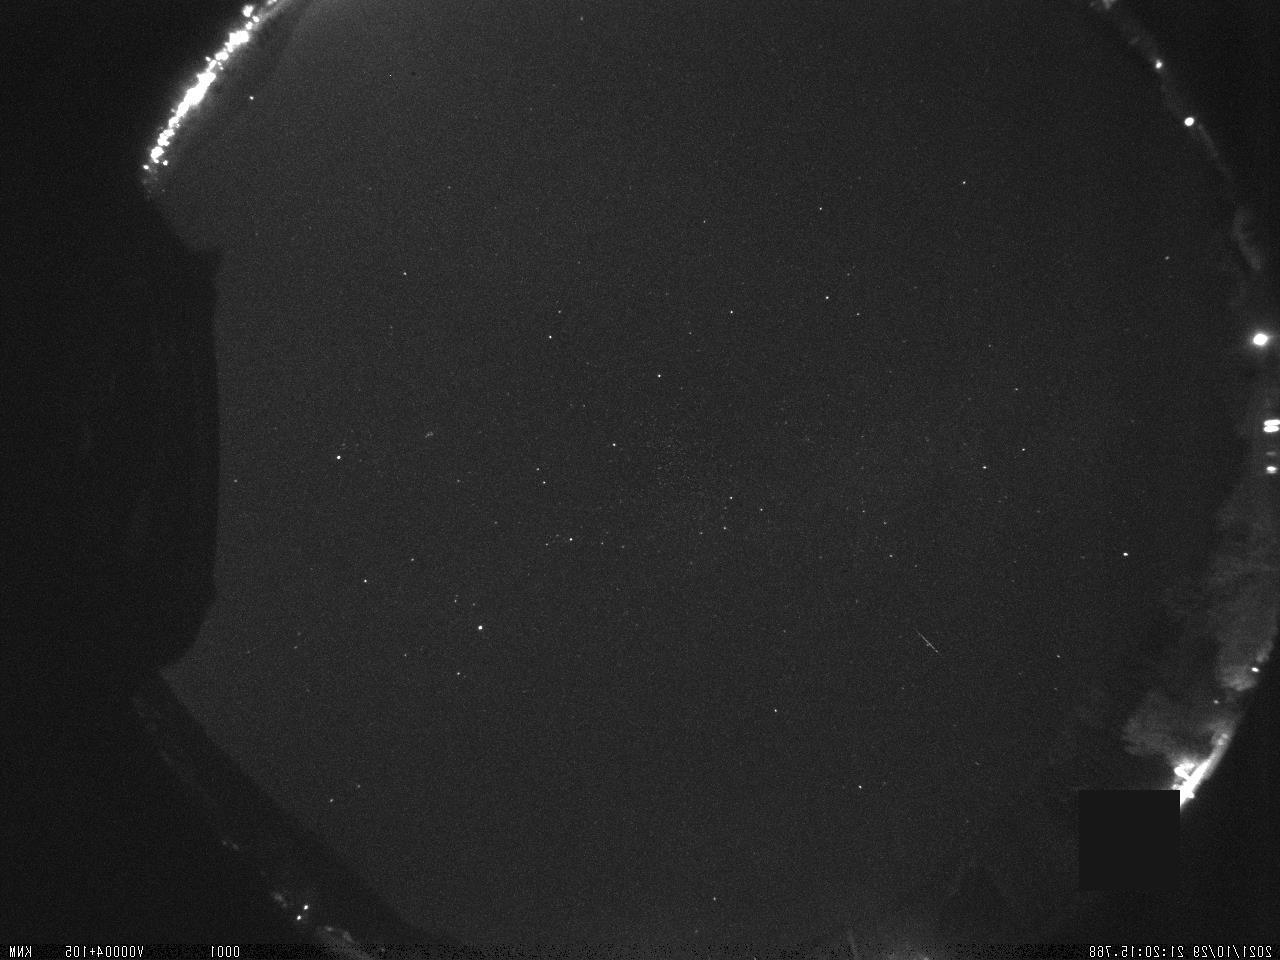meteor: (903, 616, 950, 665)
